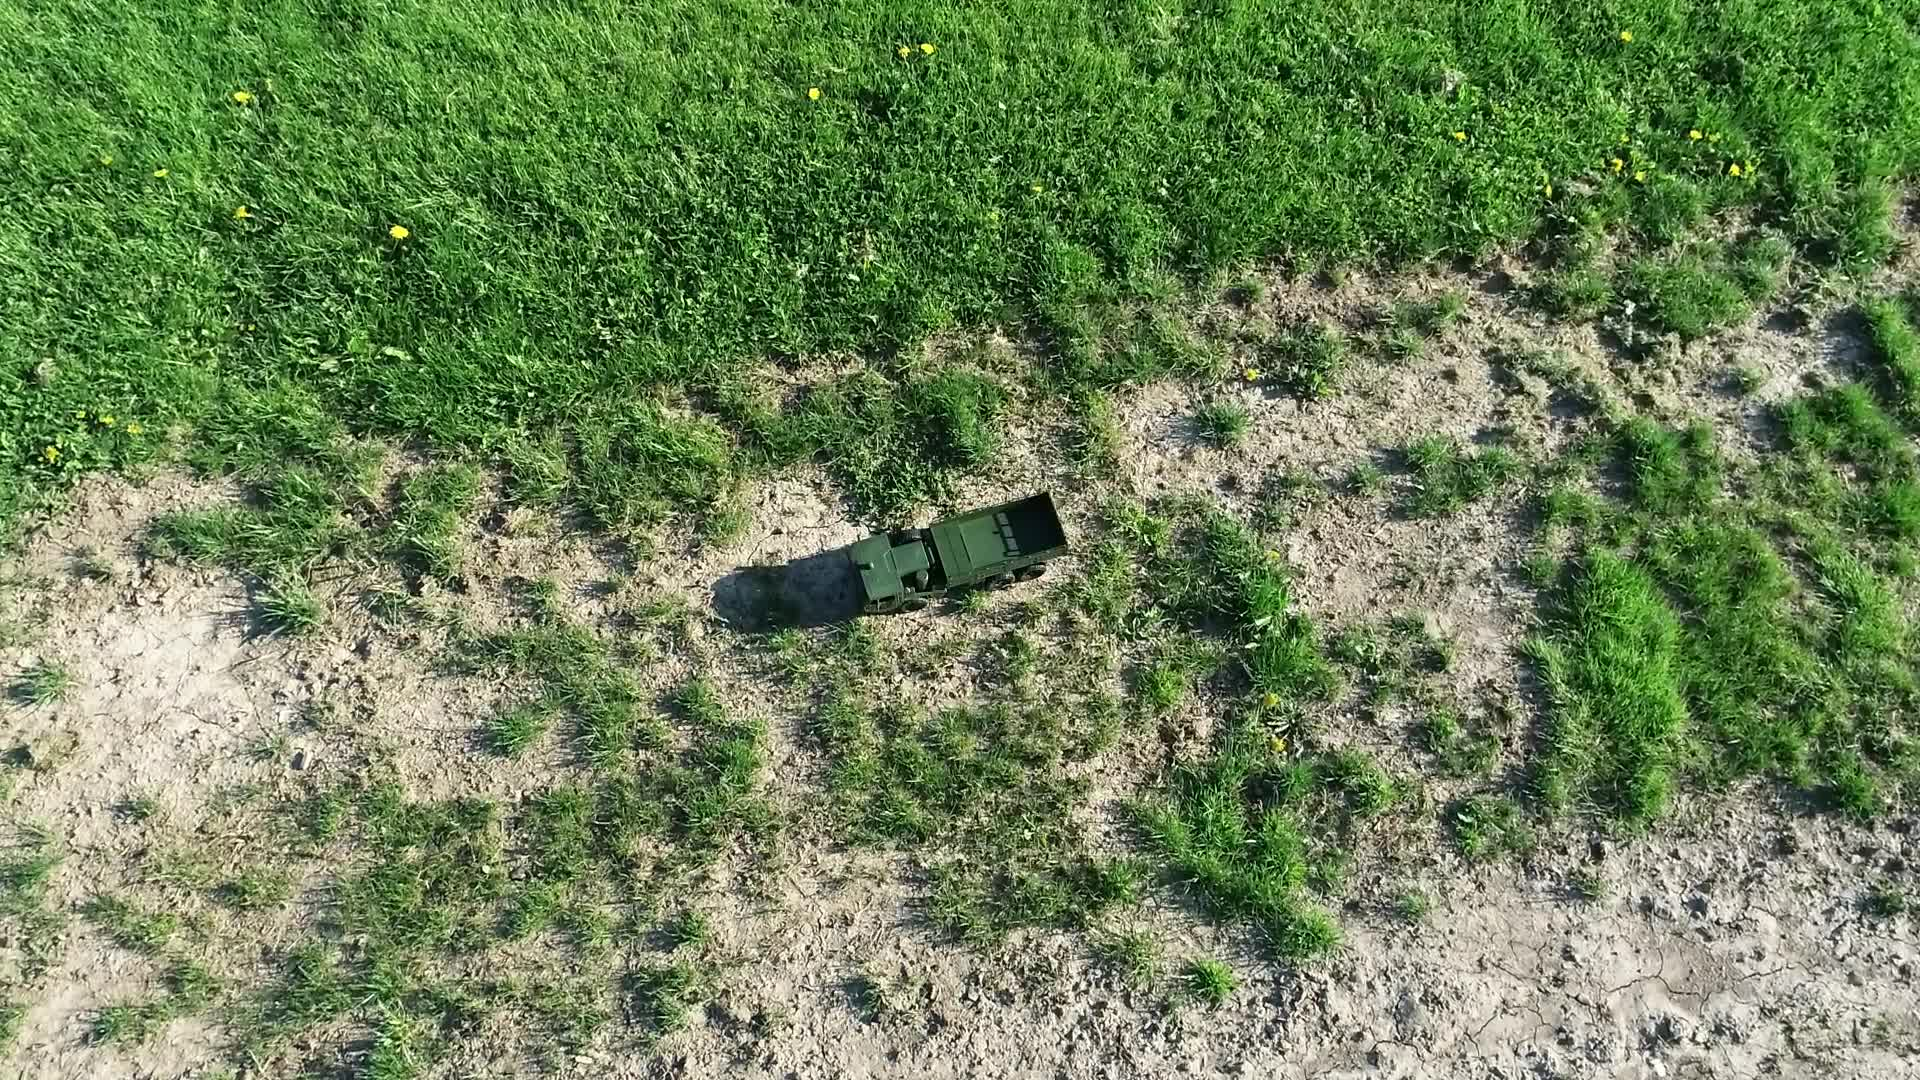transporter9: (831, 485, 1062, 622)
